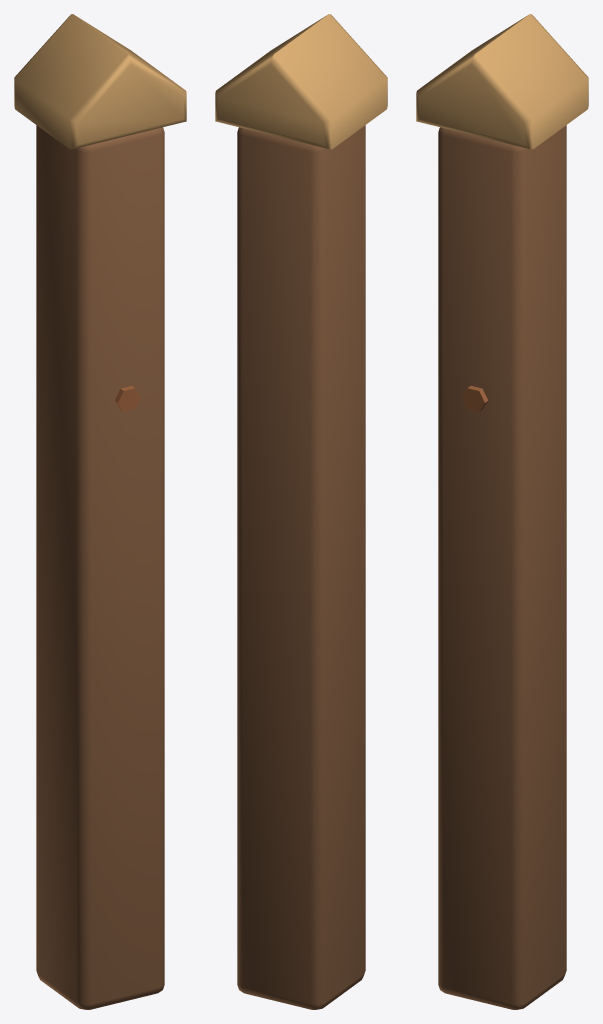
Rendered from fence-picket-post.glb.
3 views of the same model, side by side, from view 1: azimuth 30°, elevation 25°; view 2: azimuth 150°, elevation 25°; view 3: azimuth 330°, elevation 25° (orthographic).
Visible parts, largest first — view 1: post; view 2: post; view 3: post.
Part boxes in pixels (x1=…): post: x1=14, y1=14, x2=186, y2=1009; post: x1=215, y1=14, x2=387, y2=1009; post: x1=416, y1=14, x2=588, y2=1009.
Bounding box in the file's own units: 0.12 × 0.94 × 0.11.
